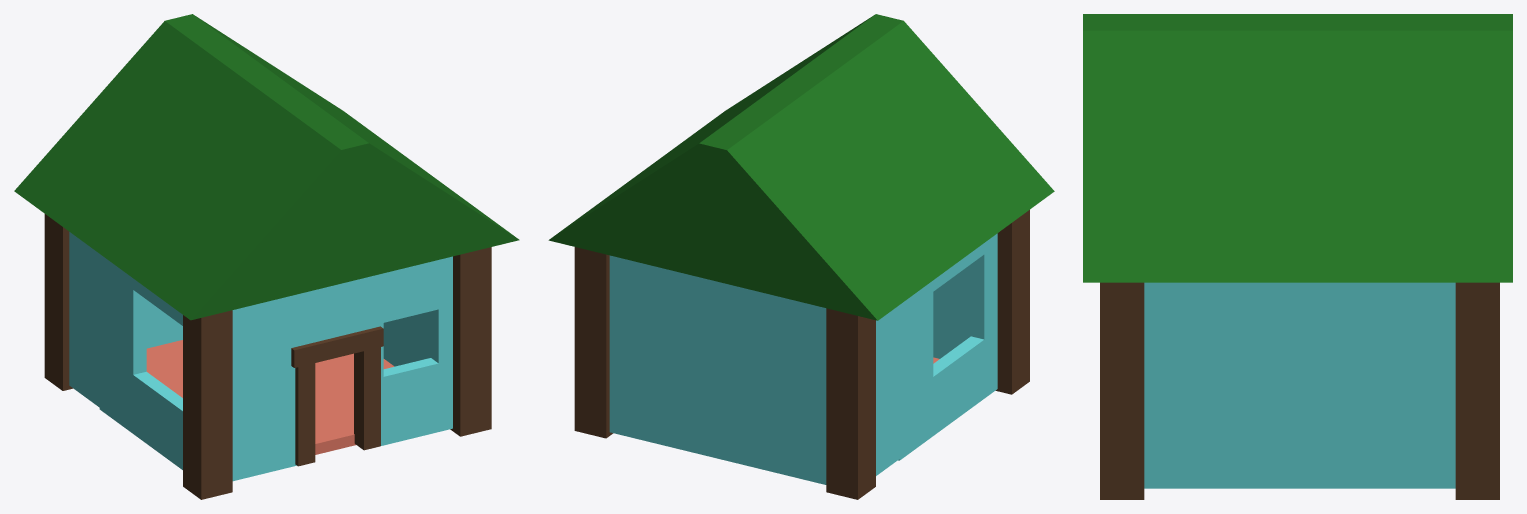
File: BaseHouseModel.fbx
3 views of the same model, side by side, from view 1: azimuth 30°, elevation 25°; view 2: azimuth 150°, elevation 25°; view 3: azimuth 270°, elevation 25° (orthographic). The views are drawn at different scales.
Visible parts, largest first — view 1: Cube.003; view 2: Cube.003; view 3: Cube.003.
Boxes of the visible parts, box(x1,y1,x2,y2) form: Cube.003: box(14, 14, 519, 499); Cube.003: box(548, 14, 1054, 499); Cube.003: box(1083, 14, 1512, 499).
Size of the model in its own units: 10.86 by 10.16 by 10.09.
